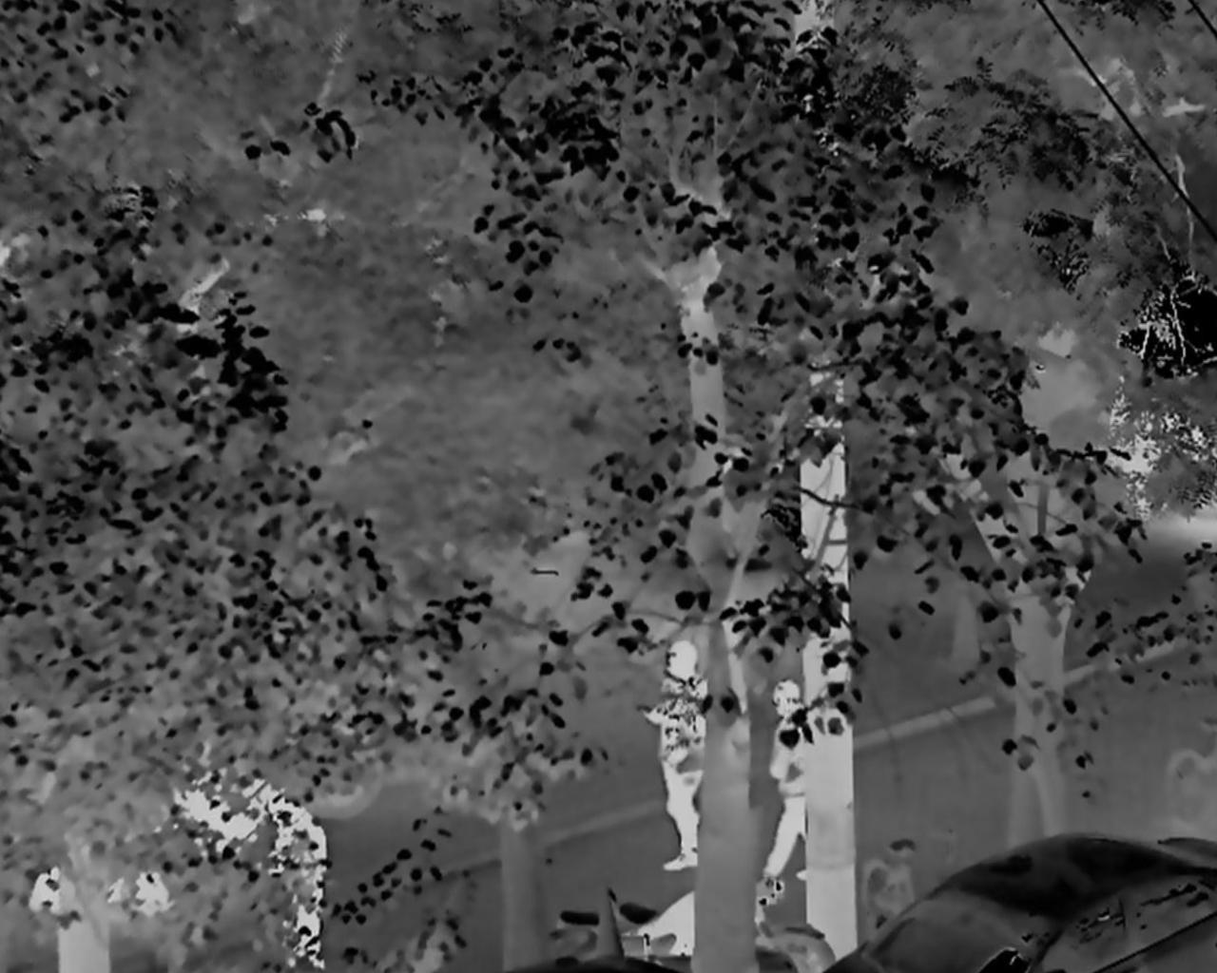person: (635, 640, 699, 875), (265, 792, 329, 973), (753, 677, 808, 880)
